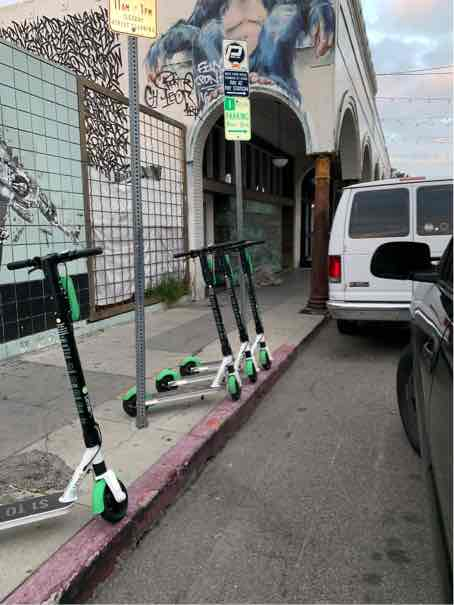too close: (62, 468, 157, 542), (207, 377, 259, 421), (229, 355, 274, 403), (247, 343, 294, 382)
